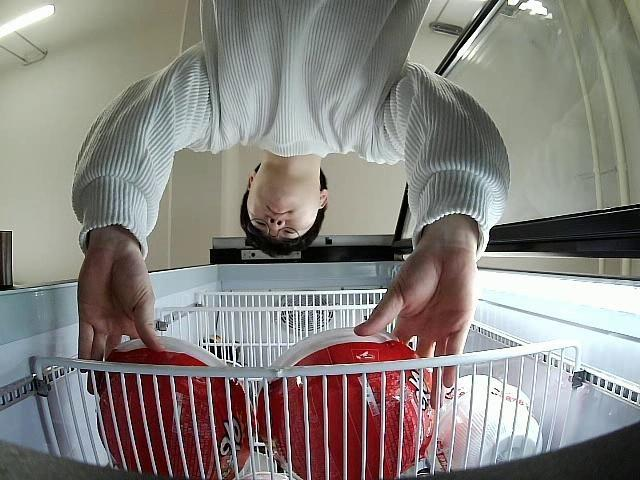10_wangTtukkeong: (258, 328, 436, 480), (97, 334, 255, 480)
